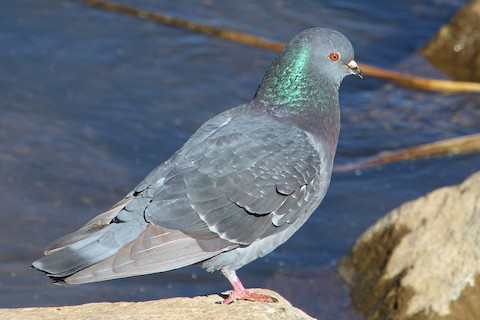pigeon: (28, 24, 371, 306)
